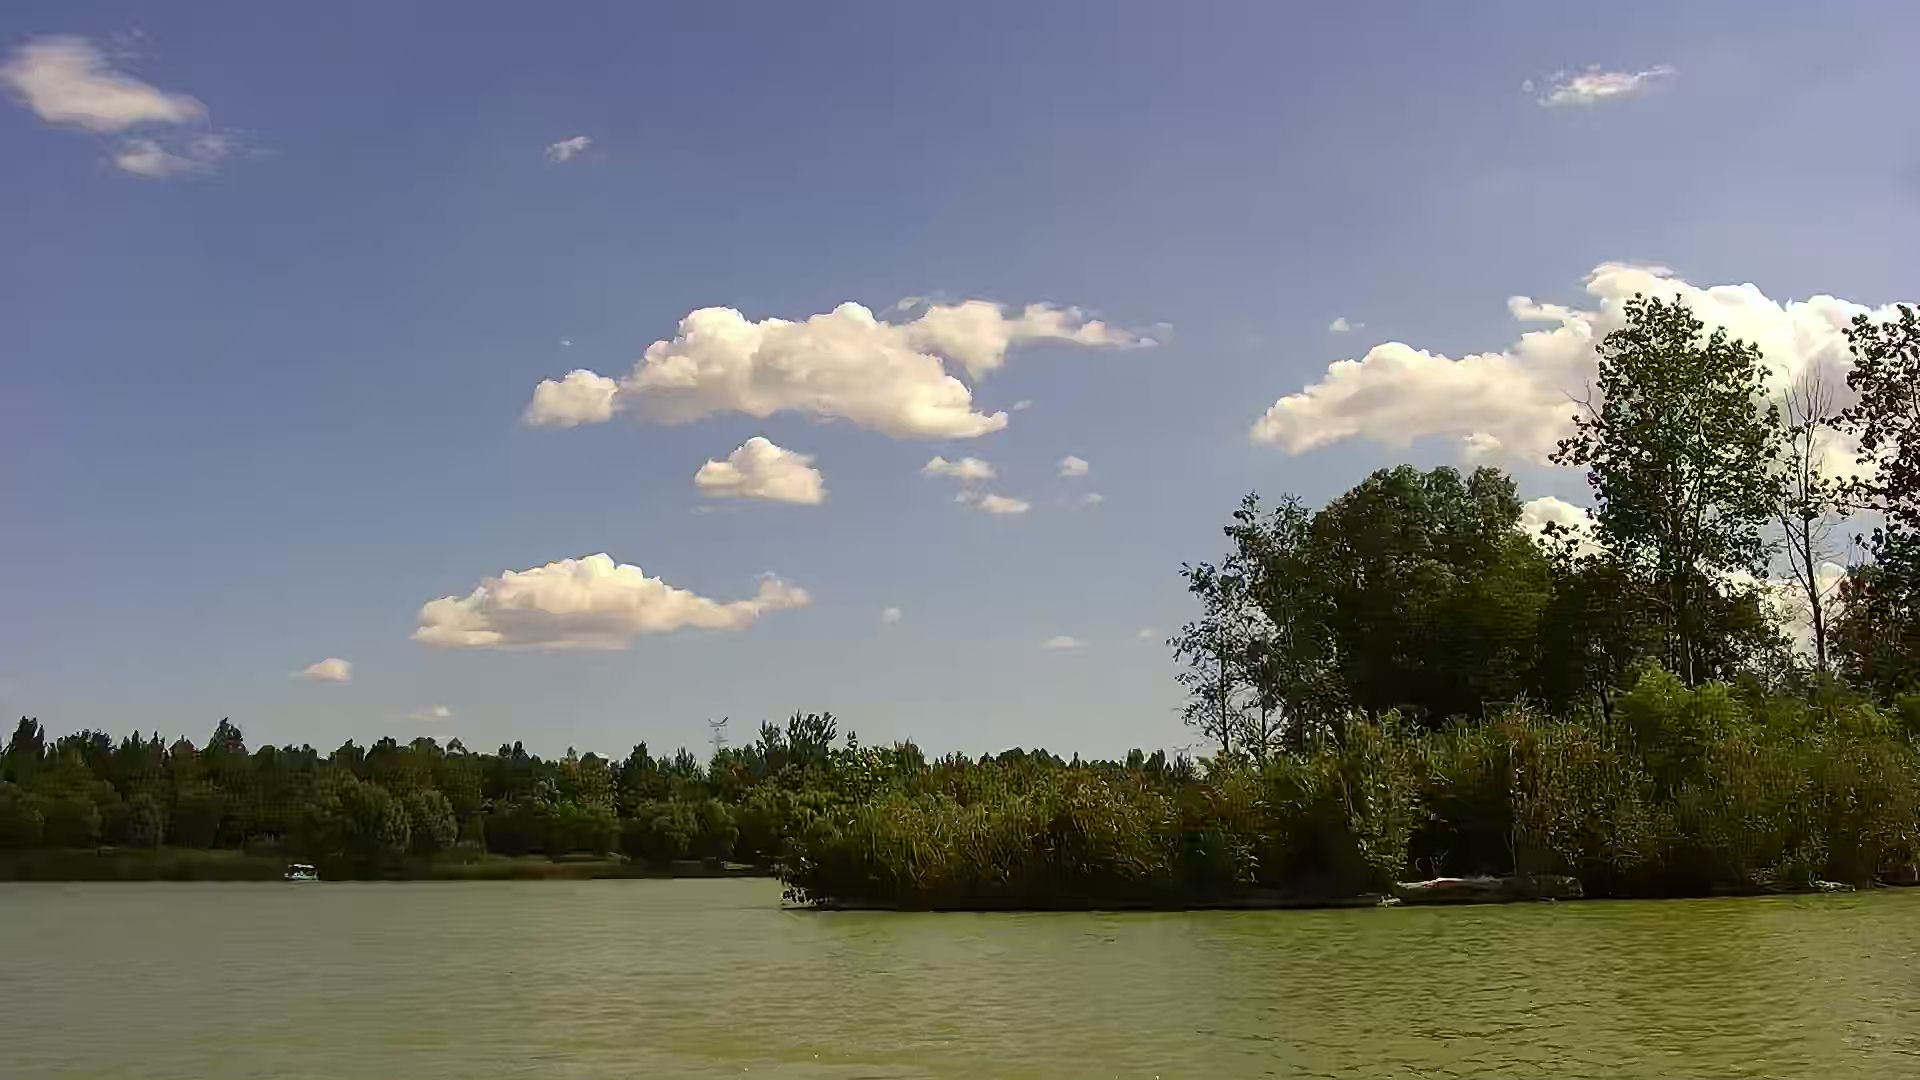boat: (285, 860, 323, 885)
